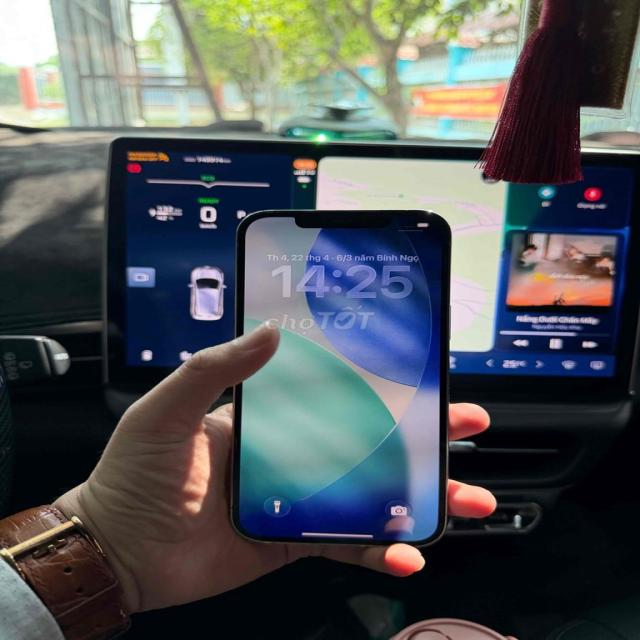gen_12_13: (227, 198, 460, 554)
